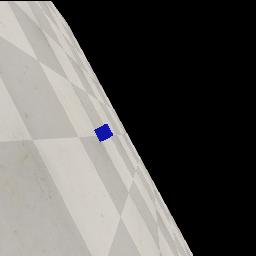box: (94, 124, 113, 142)
